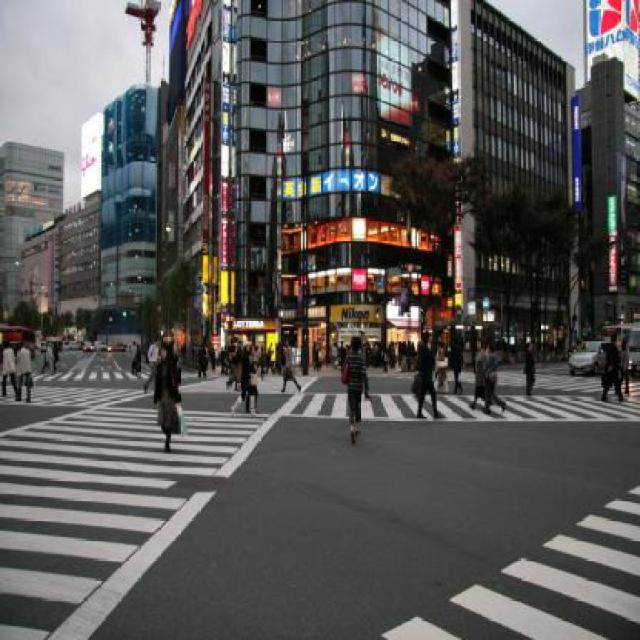obstacle: (380, 327, 505, 425), (195, 328, 318, 418), (142, 336, 182, 458), (341, 332, 372, 445), (0, 338, 38, 404), (600, 328, 632, 406), (38, 338, 62, 378), (522, 333, 536, 395)
